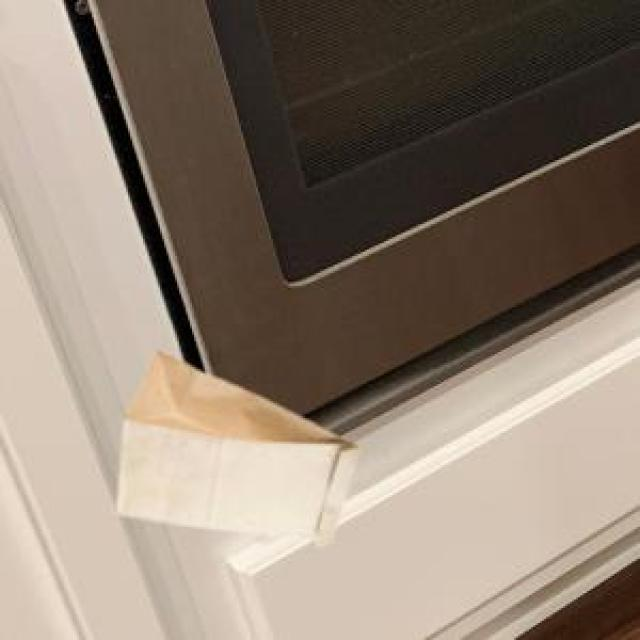paper: (113, 348, 354, 542)
